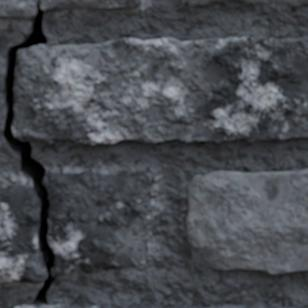brick: (13, 36, 307, 143), (186, 169, 307, 273), (15, 304, 164, 307), (166, 303, 268, 307), (182, 0, 234, 5), (274, 0, 307, 7), (236, 0, 271, 4)
broken_brick: (44, 171, 154, 276), (0, 184, 45, 283), (0, 0, 141, 19)
crack: (0, 2, 55, 305)
